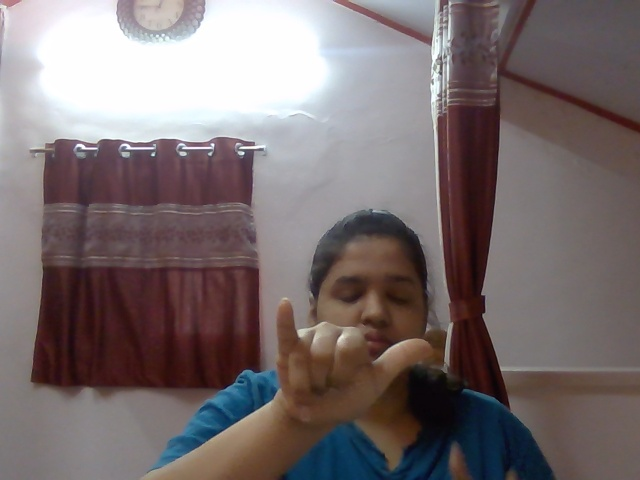y: (244, 291, 445, 432)
